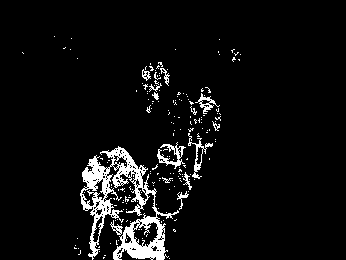person: (193, 87, 233, 176), (151, 144, 189, 236), (79, 154, 109, 252), (114, 148, 141, 227), (169, 93, 195, 168)
